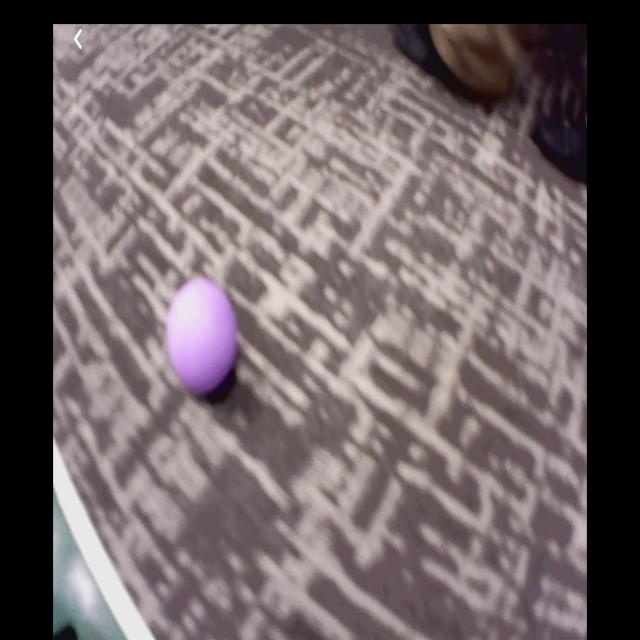ball: (172, 284, 238, 394)
